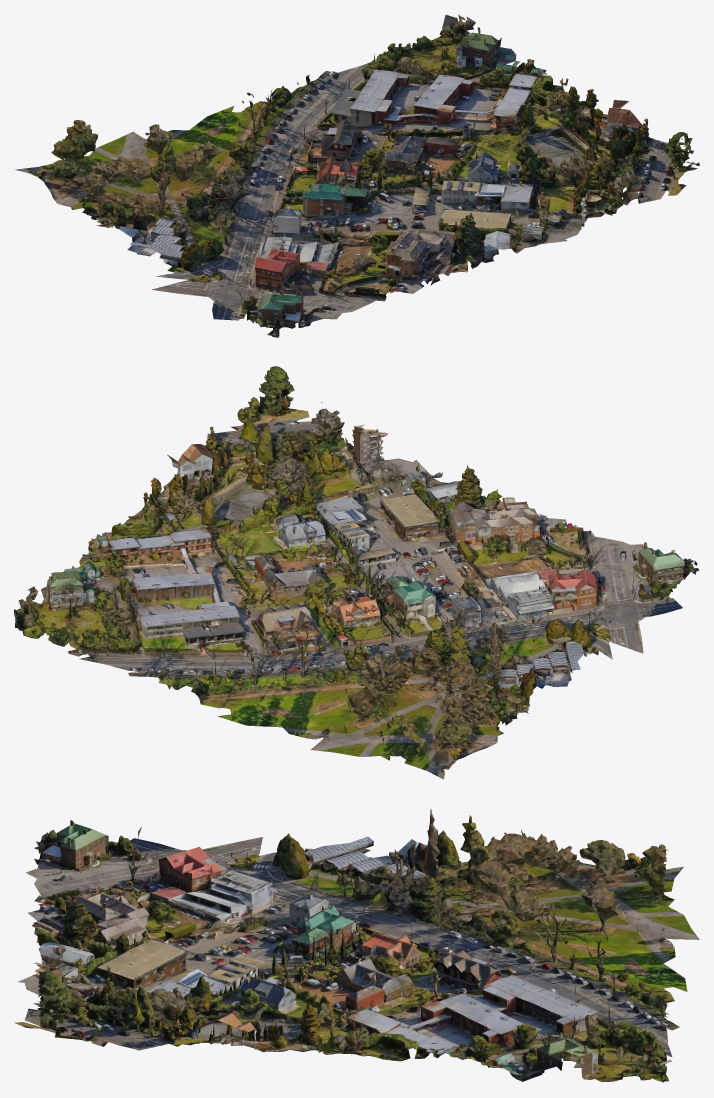
File: Tile_013_010_L18.gltf
The picture shows the model from 3 angles, top to bottom: view 1: azimuth 30°, elevation 25°; view 2: azimuth 150°, elevation 25°; view 3: azimuth 270°, elevation 25°; orthographic projection. The views are drawn at different scales.
Visible parts, largest first — view 1: Tile_+013_+010_L18; view 2: Tile_+013_+010_L18; view 3: Tile_+013_+010_L18.
Part boxes in pixels (x1,y1,x2,y2): Tile_+013_+010_L18: [14, 14, 699, 337]; Tile_+013_+010_L18: [14, 366, 699, 779]; Tile_+013_+010_L18: [14, 808, 699, 1082].
Size of the model in its own units: 225 by 53.98 by 221.
1 material, 1 textured.
